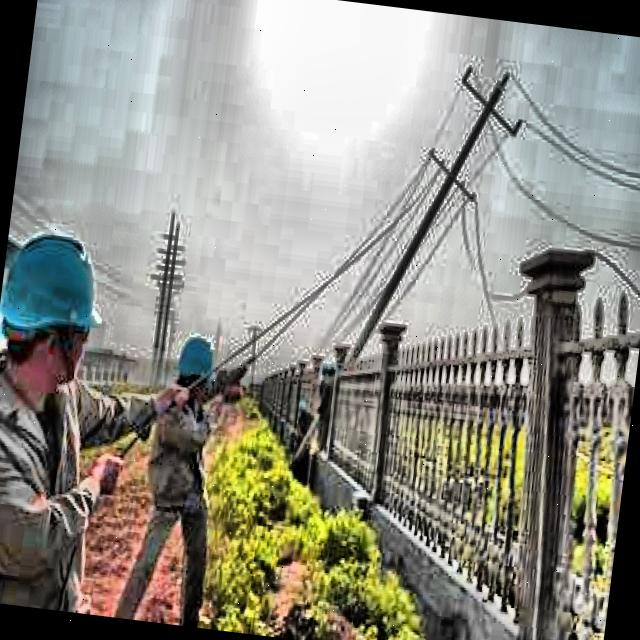helmet: (0, 210, 117, 410), (170, 330, 221, 408)
